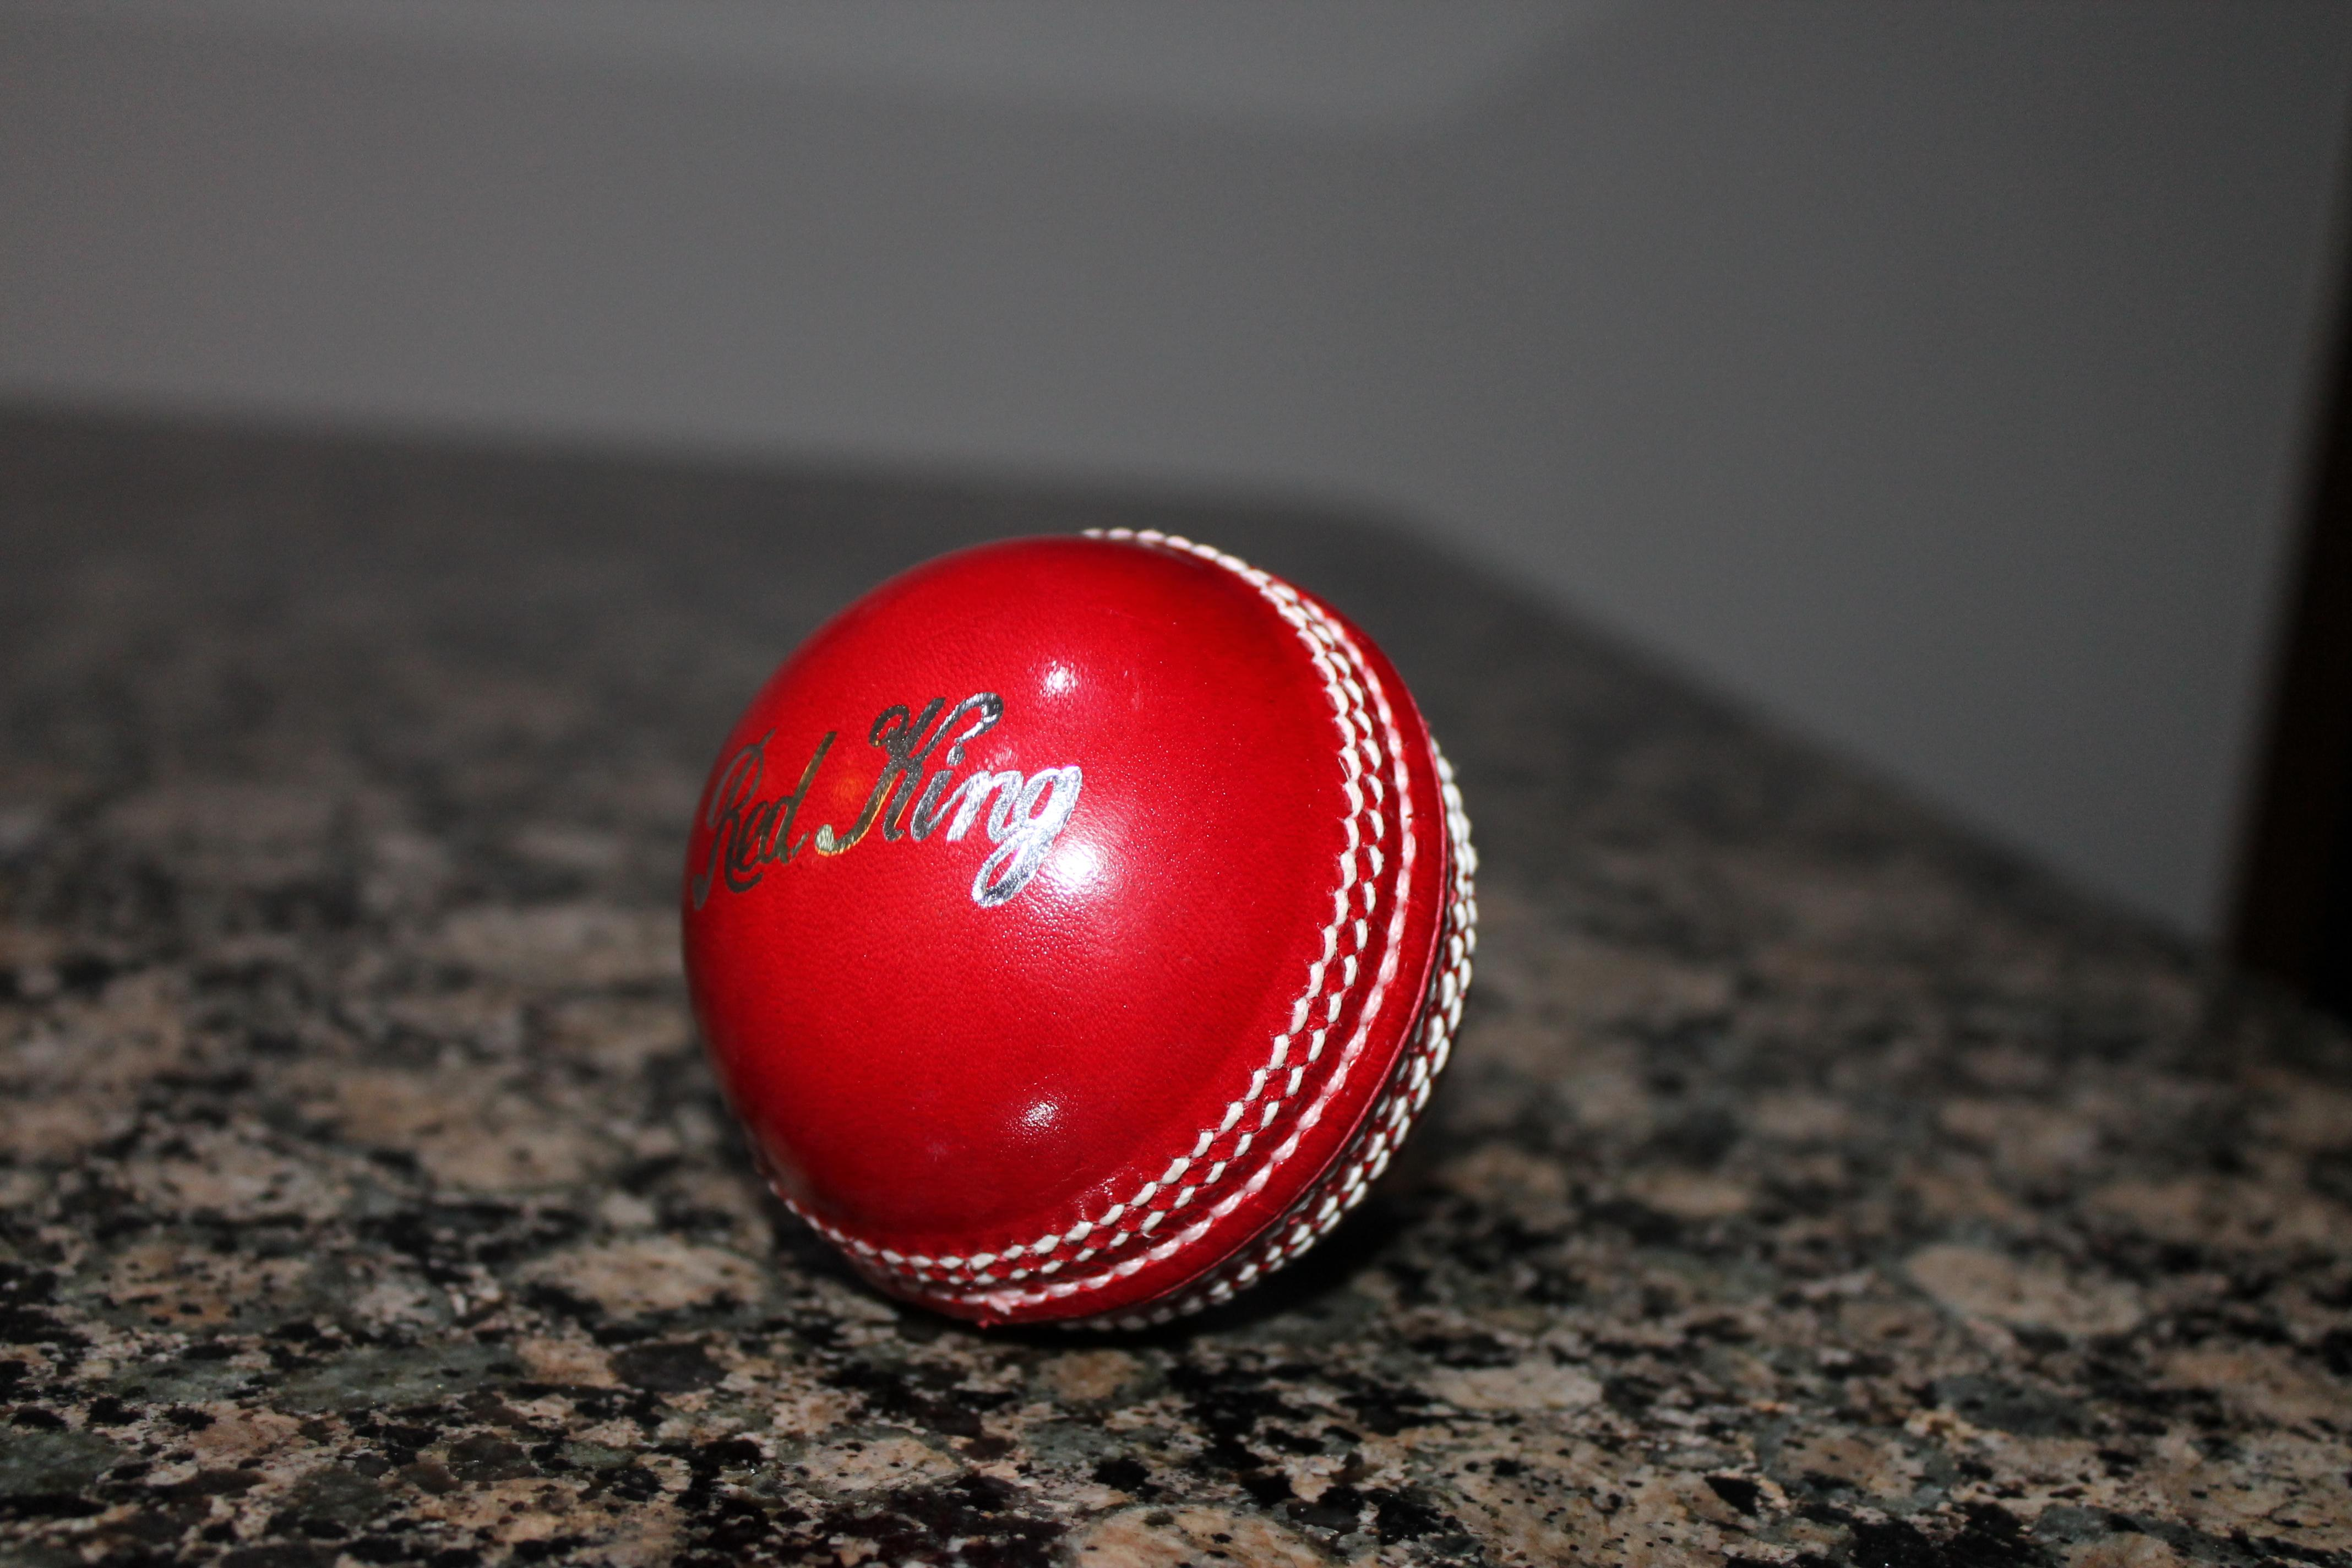Red_Ball: (616, 497, 1549, 1379)
